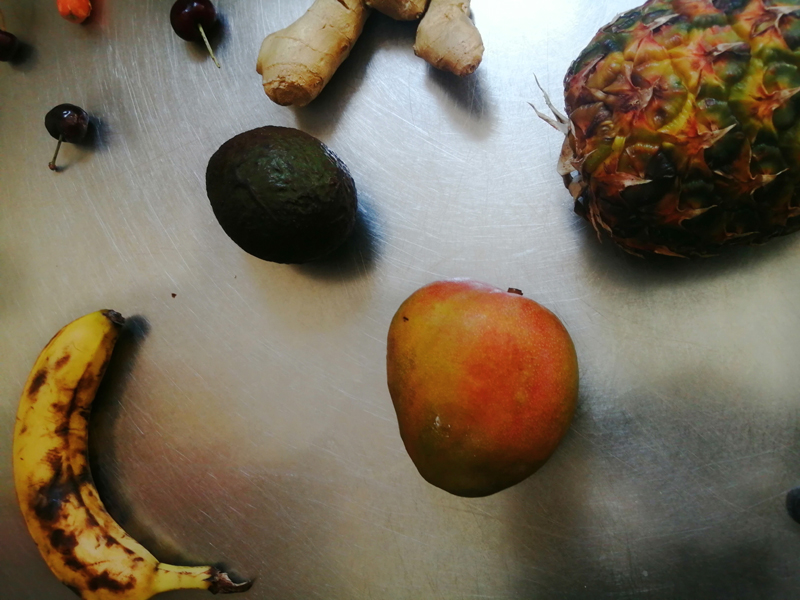avocado: (196, 116, 362, 270)
banana: (7, 304, 267, 600)
cherry: (28, 90, 102, 177)
mango: (381, 274, 583, 504)
